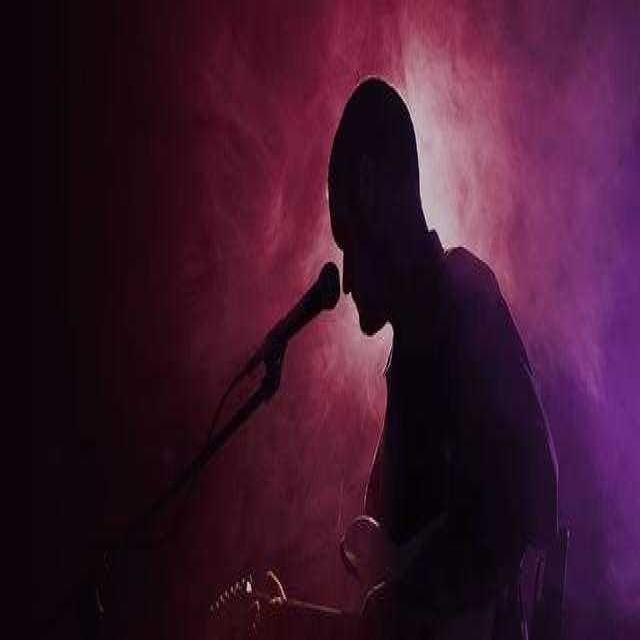microphone: (266, 260, 341, 360)
